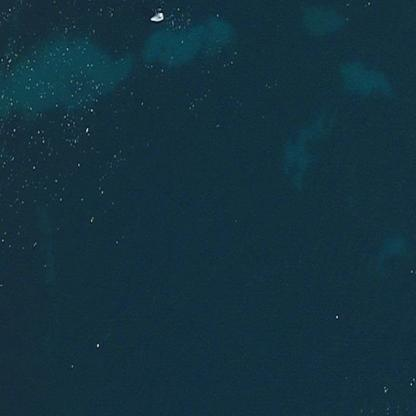ship: (144, 7, 168, 25)
